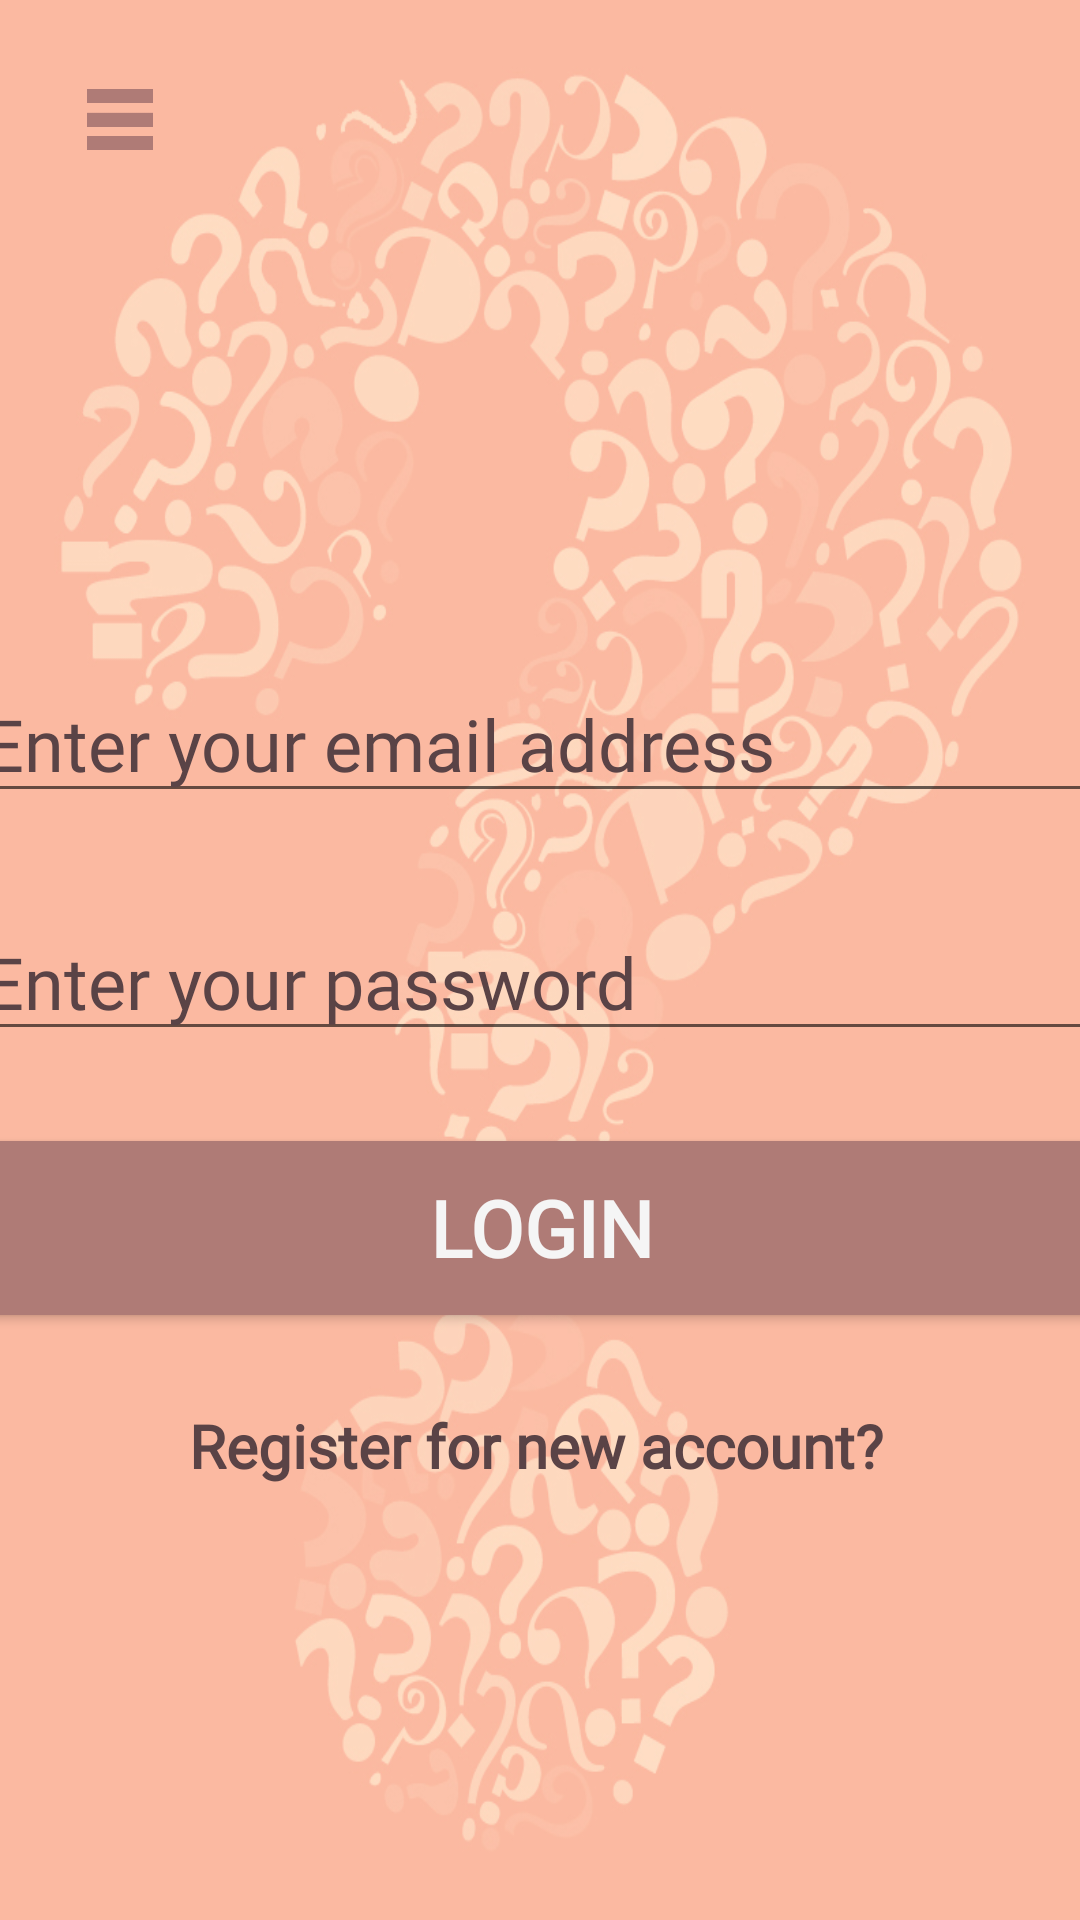

Icon bounding boxes for this 1080 x 1920 phone screenshot, format (x1, y1, x2, y2):
menu: (87, 89, 153, 150)
